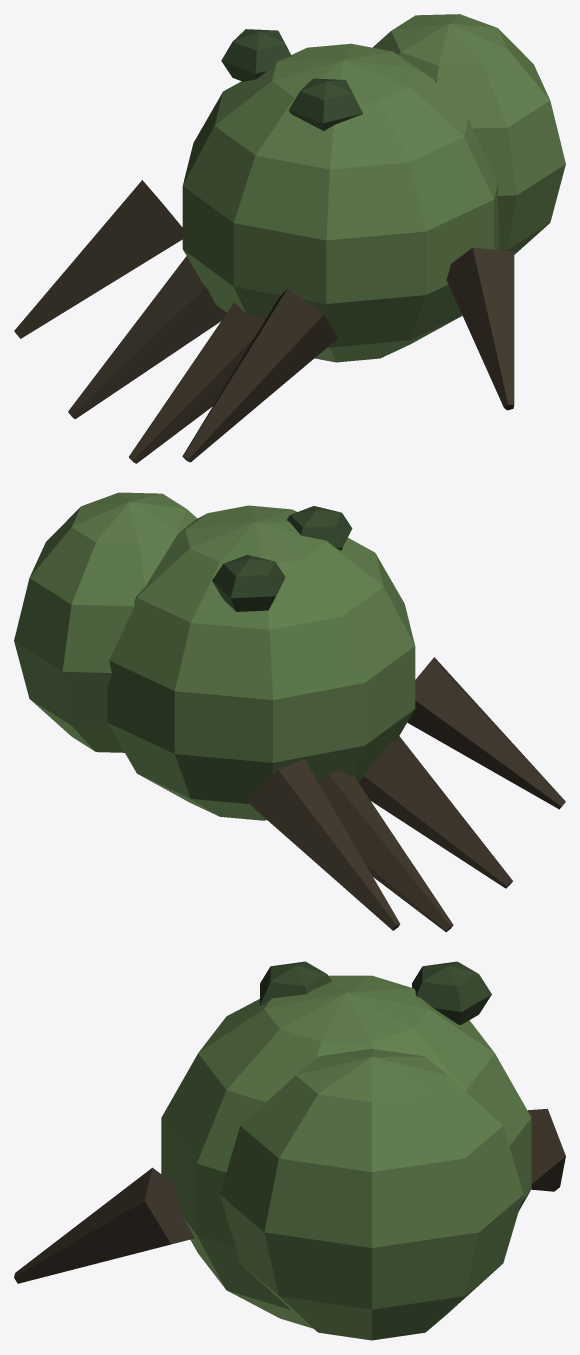
Rendered from troll_chief_fist_r.glb.
The picture shows the model from 3 angles, top to bottom: view 1: azimuth 30°, elevation 25°; view 2: azimuth 150°, elevation 25°; view 3: azimuth 270°, elevation 25°; orthographic projection. The views are drawn at different scales.
Parts seen in each view (by area): view 1: troll_chief_fist_r; view 2: troll_chief_fist_r; view 3: troll_chief_fist_r.
Boxes of the visible parts, bbox=[...] form: troll_chief_fist_r: bbox=[14, 14, 565, 463]; troll_chief_fist_r: bbox=[14, 492, 565, 932]; troll_chief_fist_r: bbox=[14, 961, 565, 1340].
Bounding box in the file's own units: 0.4629 × 0.3289 × 0.4362.
